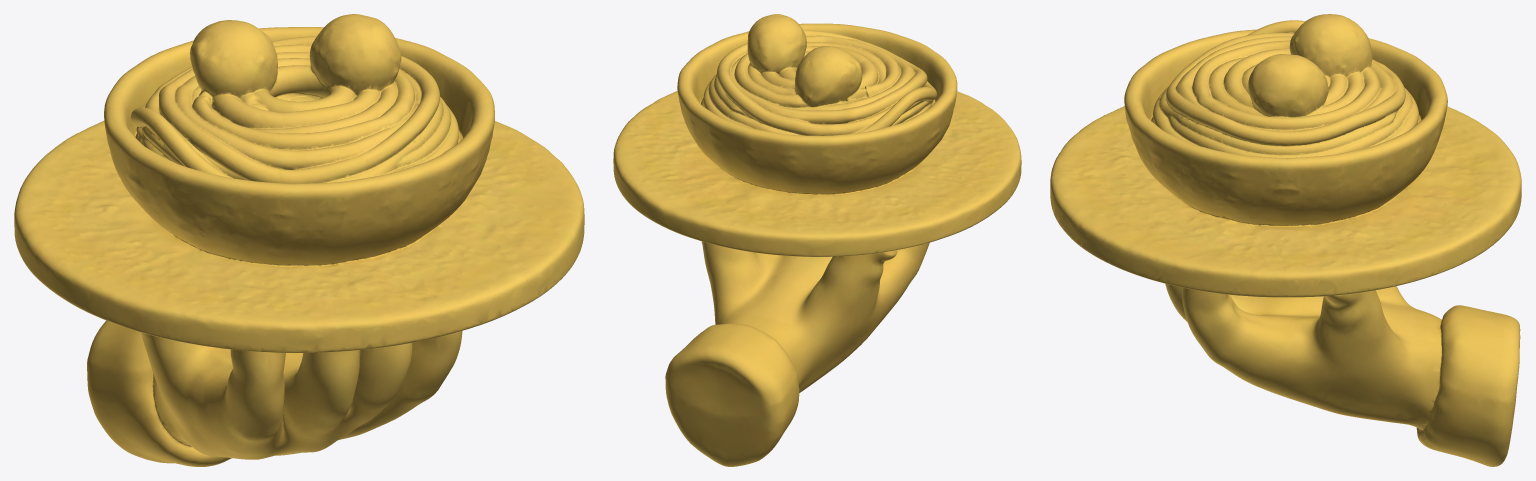
The model's file is intro-tray.glb.
3 renders of one model, left to right at view 1: azimuth 30°, elevation 25°; view 2: azimuth 150°, elevation 25°; view 3: azimuth 270°, elevation 25°, orthographic. The views are drawn at different scales.
Parts seen in each view (by area): view 1: Mesh_0; view 2: Mesh_0; view 3: Mesh_0.
Part boxes in pixels (left/top/right/bottom): Mesh_0: left=14, top=14, right=584, bottom=466; Mesh_0: left=613, top=14, right=1021, bottom=466; Mesh_0: left=1050, top=14, right=1521, bottom=466.
Size of the model in its own units: 0.1197 by 0.12 by 0.1197.
Materials: 1 (1 with a texture image).
